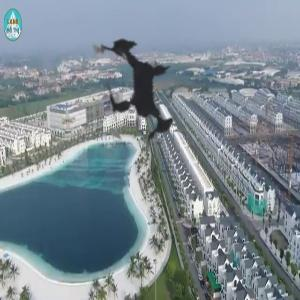drone: (50, 2, 234, 186)
